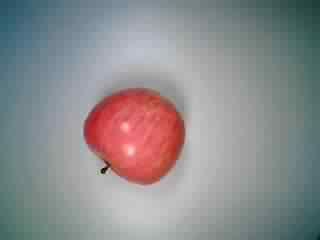apple: (82, 84, 187, 186)
